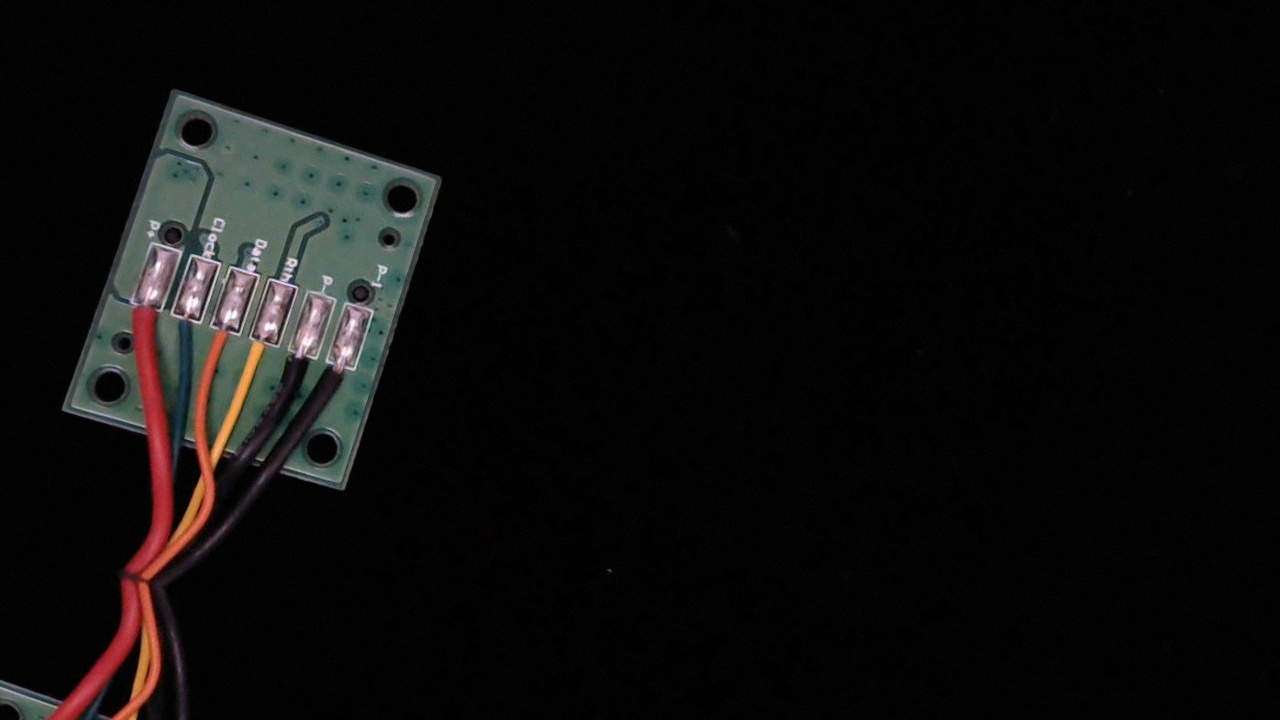Black: (273, 334, 321, 403)
Black1: (312, 344, 363, 417)
Green: (156, 296, 210, 373)
Orange: (193, 308, 246, 386)
Red: (114, 285, 168, 362)
Yellow: (229, 322, 284, 403)
